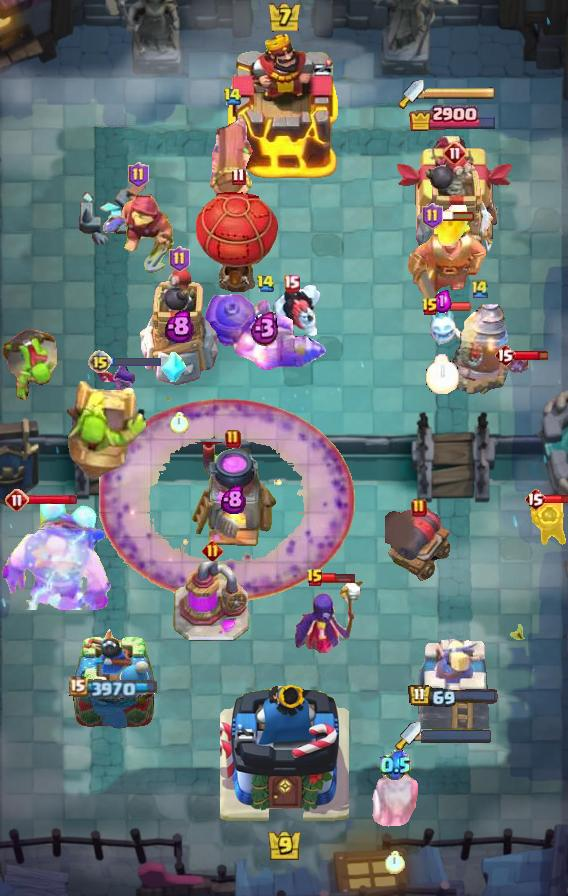axe: (292, 576, 368, 656)
bar: (391, 132, 515, 256), (416, 637, 490, 731)
bar-level: (0, 324, 60, 400)
barbarian-barrel: (503, 353, 533, 375)
bat: (420, 304, 464, 350)
battle-healer: (208, 110, 256, 224)
bomber-evolution: (516, 497, 568, 547)
cannon-cart: (196, 190, 280, 292)
electro-spirit: (250, 310, 280, 346), (165, 309, 194, 343), (381, 751, 411, 782), (222, 484, 247, 514), (432, 289, 452, 313)
elixir: (425, 354, 459, 394), (385, 851, 405, 874), (170, 412, 189, 434)
emote: (26, 494, 77, 507), (110, 356, 162, 368), (515, 349, 550, 362), (440, 210, 476, 222), (436, 301, 472, 312), (321, 572, 354, 584), (544, 493, 568, 505)
fireball: (102, 193, 174, 275)
goblin: (89, 362, 141, 404)
goblin-hut: (406, 218, 488, 304)
hunter: (188, 442, 278, 550)
king-tower: (219, 678, 349, 826), (226, 33, 342, 181)
king-tower-bar: (424, 87, 496, 101), (421, 729, 493, 743)
little-prince: (0, 496, 112, 610)
magic-archer: (450, 303, 510, 395)
mortar-evolution: (368, 761, 422, 827)
pad_2: (160, 352, 186, 384)
pekka: (173, 561, 251, 643)
queen-tower: (72, 627, 156, 731)
rage: (259, 284, 323, 350)
rocket: (99, 398, 355, 602)
royal-giant-evolution: (385, 507, 453, 581)
selected: (408, 103, 498, 131), (409, 684, 500, 709), (68, 676, 159, 700)
text: (443, 141, 467, 165), (88, 350, 112, 374), (5, 488, 29, 512), (128, 162, 149, 188), (421, 203, 442, 229), (169, 246, 190, 272), (494, 343, 516, 367), (524, 487, 546, 511), (201, 539, 222, 560), (470, 278, 490, 299), (256, 274, 276, 293), (421, 297, 439, 317), (306, 568, 324, 588), (223, 87, 242, 105), (284, 274, 301, 293), (225, 429, 241, 449), (411, 498, 427, 518), (231, 167, 245, 186)
valkyrie: (432, 205, 470, 251)
wizard: (203, 293, 327, 371)
x-bow: (65, 379, 149, 481)
zappy: (411, 155, 501, 271), (136, 267, 222, 387)
